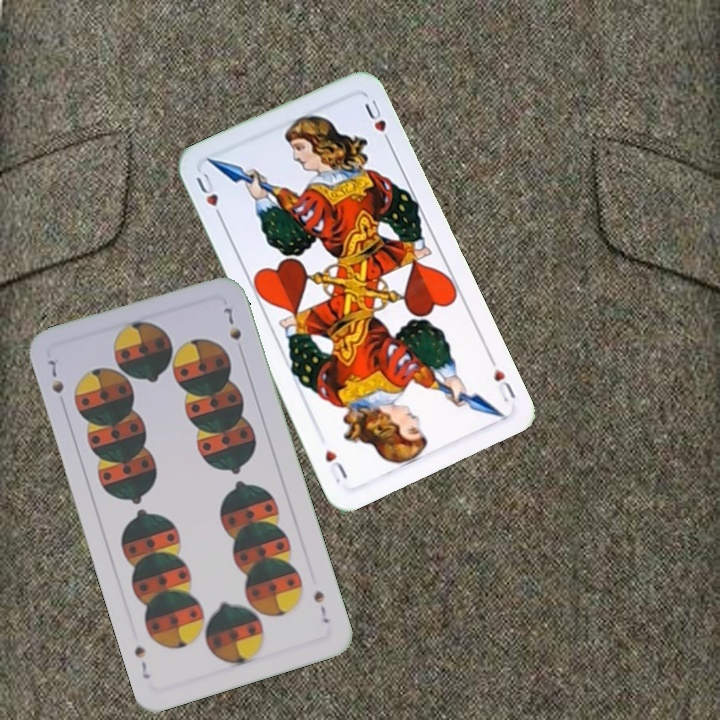HU: (192, 168, 226, 224), (490, 365, 519, 405)
S7: (43, 355, 67, 397), (309, 586, 332, 626)
